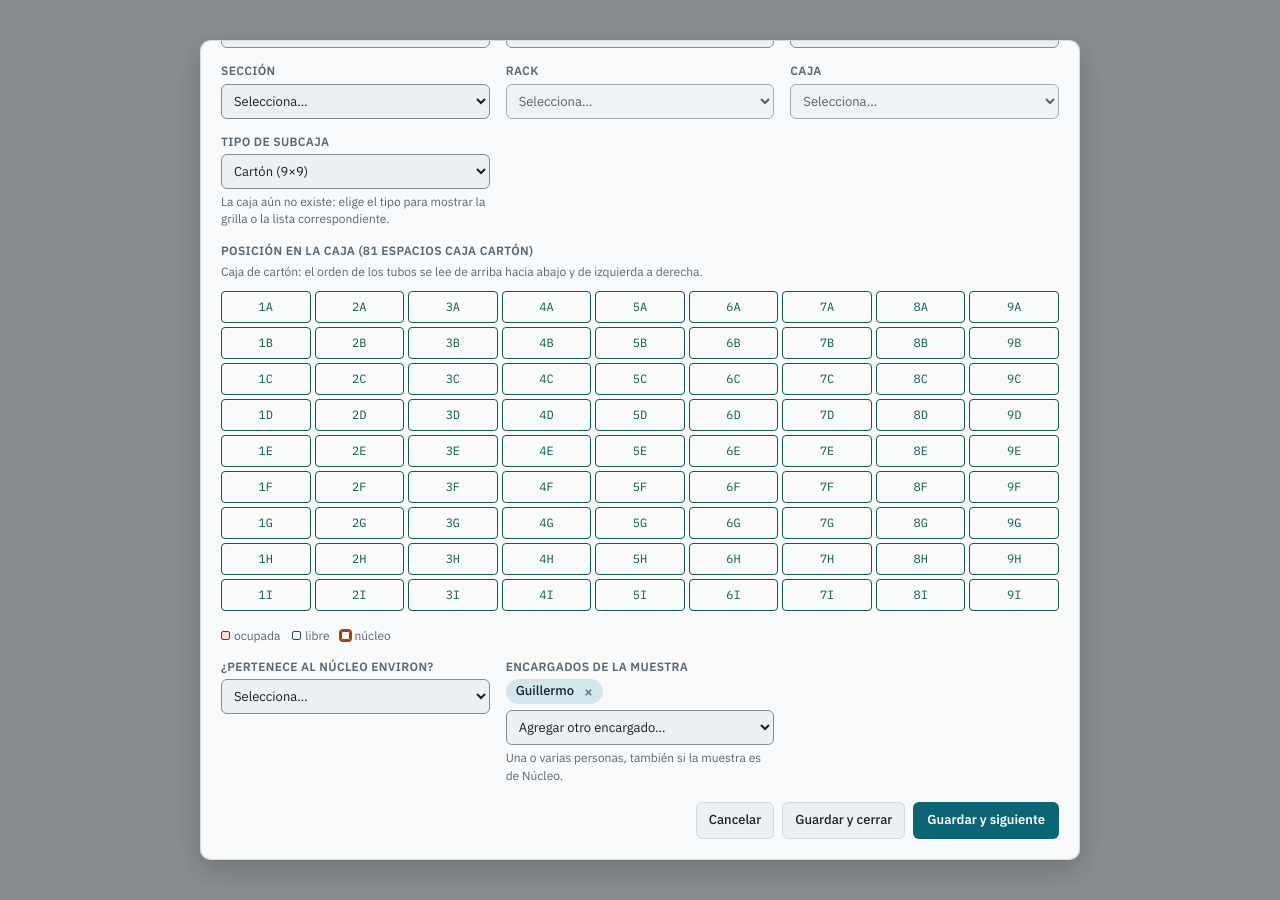
Test case: FreezeForm › no envía el movimiento y muestra errores si faltan campos obligatorios
The image size is (1280, 900).
(page scrolled)
Click the button "Guardar y cerrar".
click(844, 820)  # box [782,802,905,839]
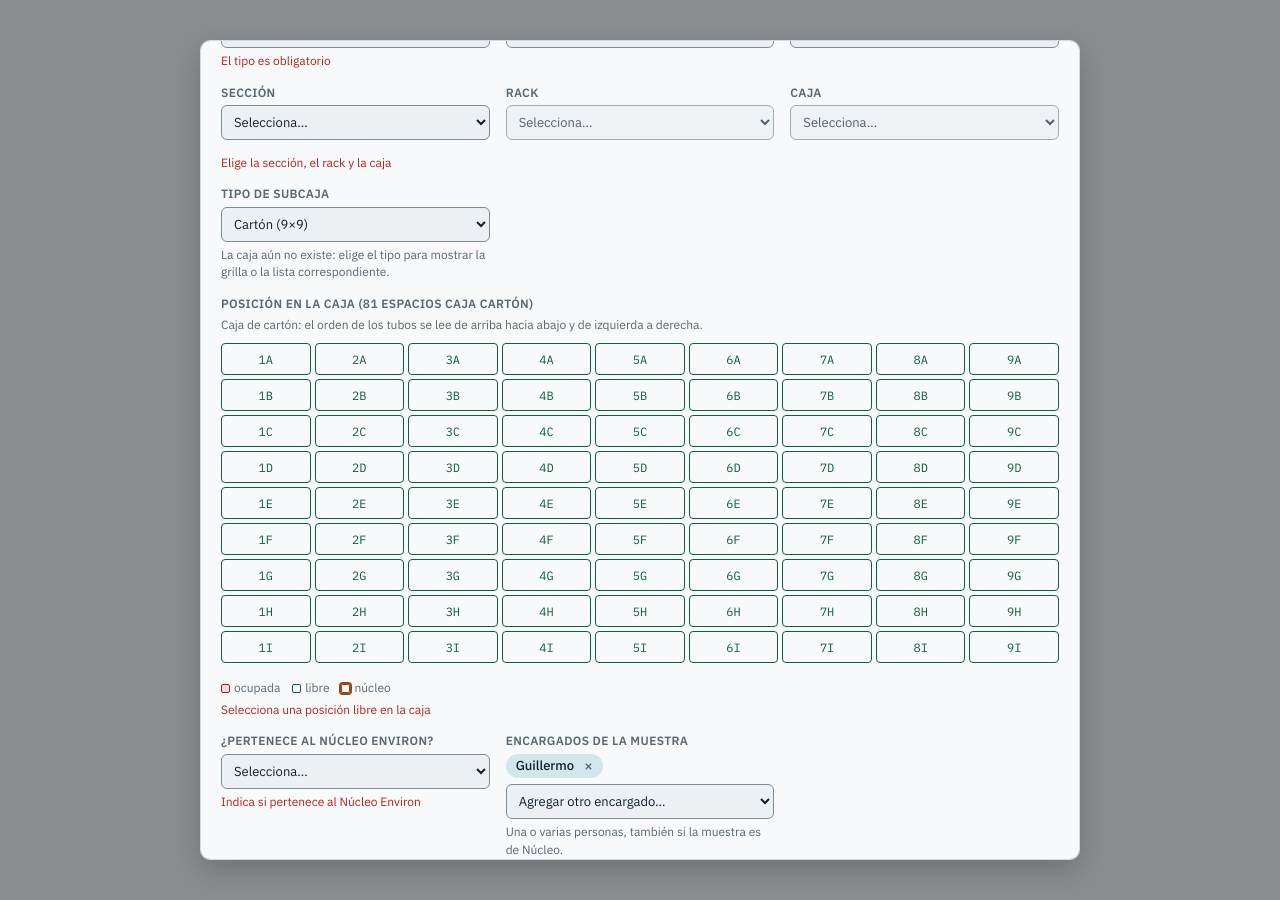
Result: the text "El tipo es obligatorio" is shown at [221,53,331,68]
